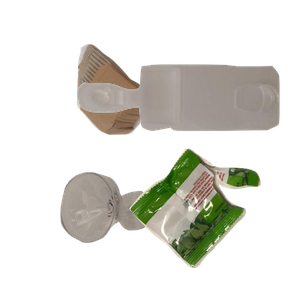cardboard: (74, 42, 225, 170)
glass: (58, 170, 202, 300)
plastic: (75, 62, 300, 186)
trash: (127, 146, 300, 300)
